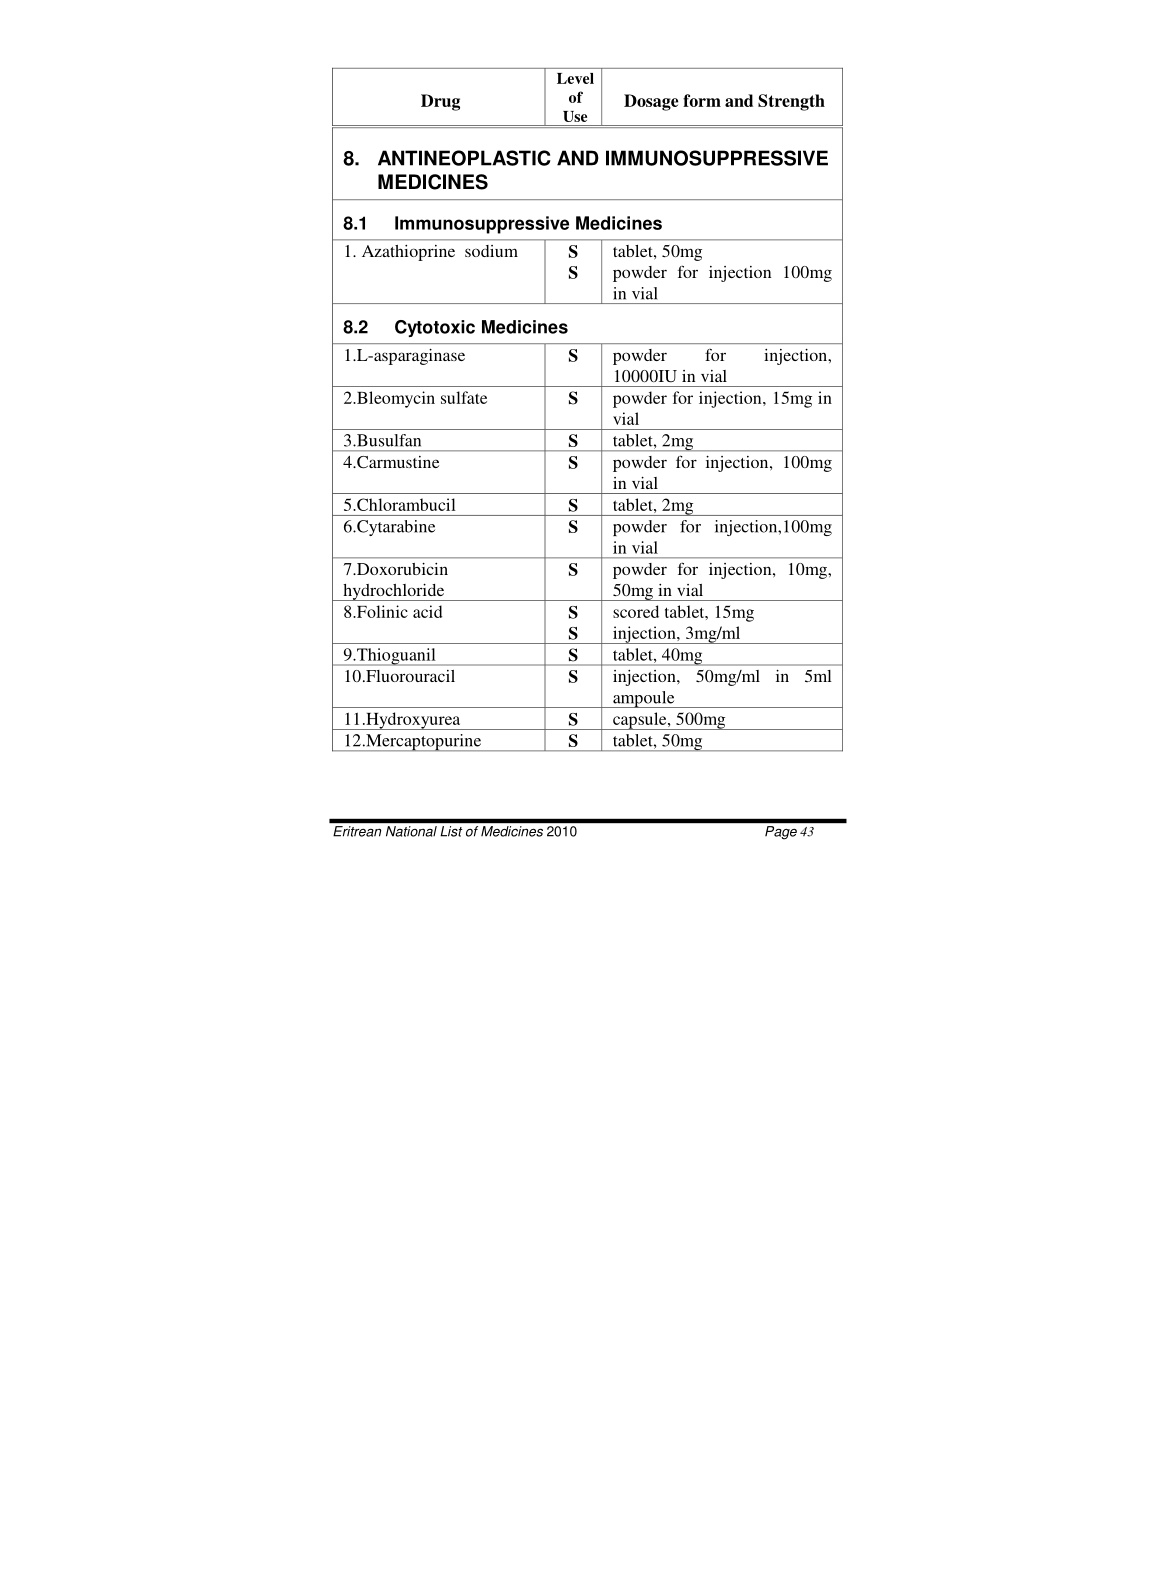merged_cells: (332, 67, 844, 752)
